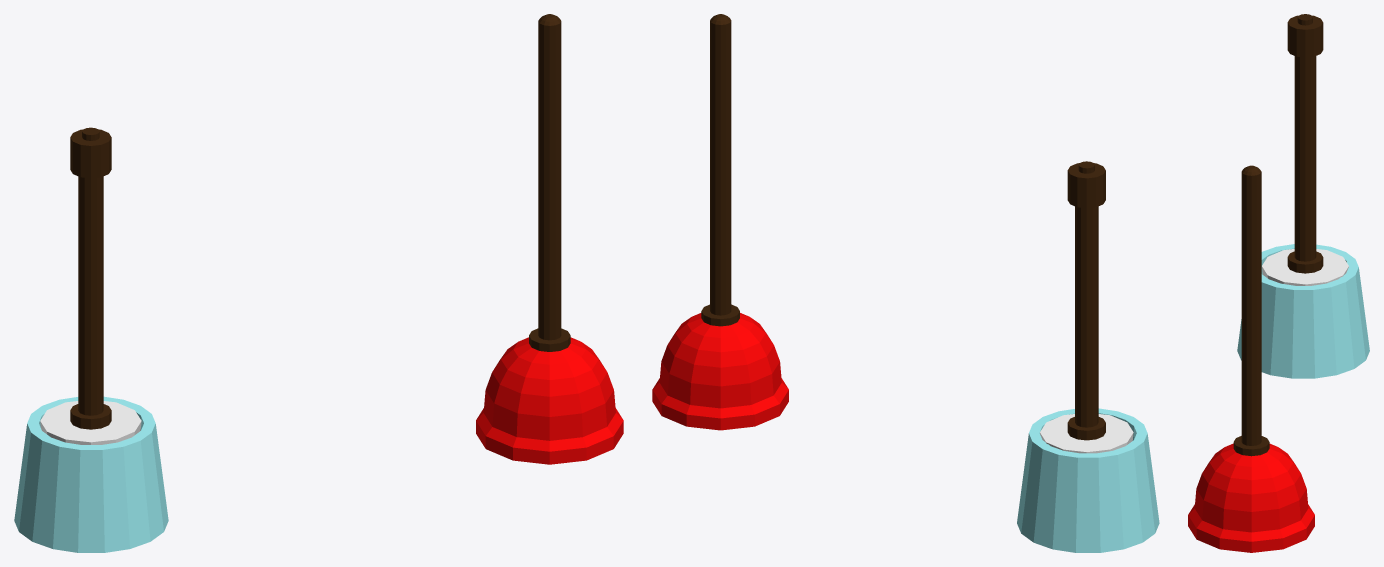
The model's file is Brush.fbx.
The picture shows the model from 3 angles, left to right: view 1: azimuth 30°, elevation 25°; view 2: azimuth 150°, elevation 25°; view 3: azimuth 270°, elevation 25°; orthographic projection. The views are drawn at different scales.
Visible parts, largest first — view 1: plunger, brush_holder, brush_to_clean_the_toilet; view 2: plunger, brush_holder, brush_to_clean_the_toilet; view 3: plunger, brush_holder, brush_to_clean_the_toilet.
Boxes of the visible parts, box(x1,y1,x2,y2) form: plunger: box(476, 14, 623, 464); brush_holder: box(14, 396, 168, 552); brush_to_clean_the_toilet: box(40, 127, 141, 444); plunger: box(652, 14, 788, 430); brush_holder: box(1017, 408, 1159, 552); brush_to_clean_the_toilet: box(1040, 161, 1133, 453); plunger: box(1188, 165, 1314, 552); brush_holder: box(1237, 244, 1369, 378); brush_to_clean_the_toilet: box(1262, 14, 1348, 285).
Bounding box in the file's own units: 0.6872 × 0.4975 × 0.2258.
